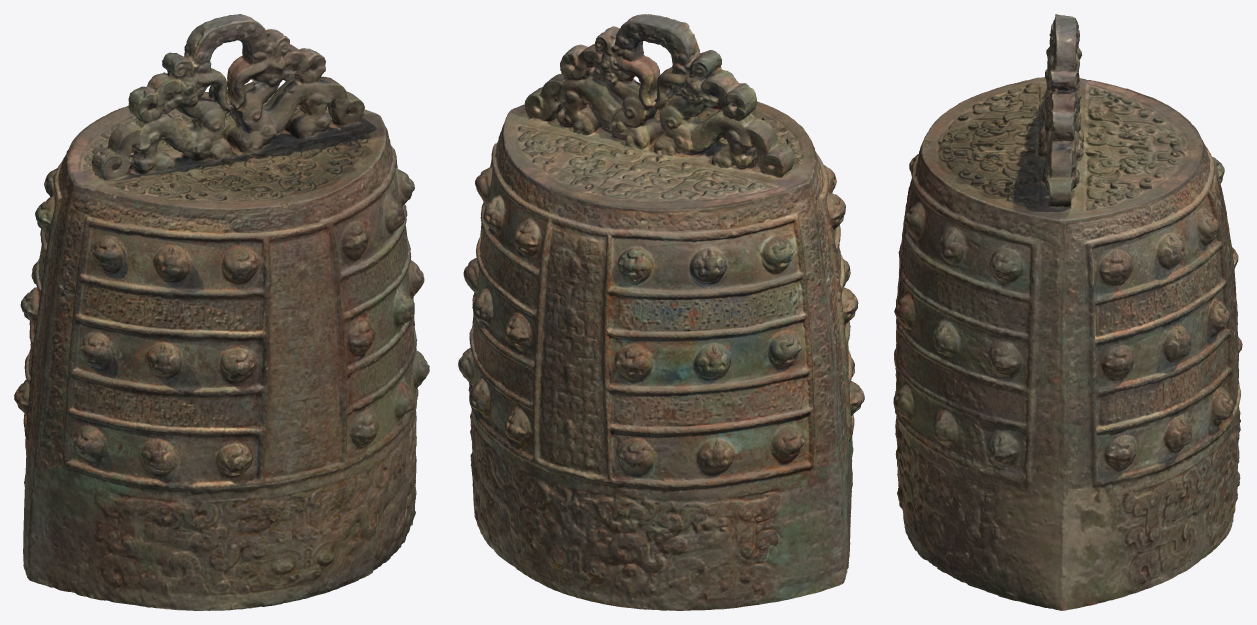
Rendered from bronze-bell.glb.
The picture shows the model from 3 angles, left to right: view 1: azimuth 30°, elevation 25°; view 2: azimuth 150°, elevation 25°; view 3: azimuth 270°, elevation 25°; orthographic projection. The views are drawn at different scales.
Parts seen in each view (by area): view 1: Object_4, Object_5, Object_6, Object_3, Object_7; view 2: Object_3, Object_6, Object_4, Object_5, Object_7; view 3: Object_3, Object_6, Object_7, Object_4, Object_5.
Boxes of the visible parts, x1=… form: Object_4: x1=35, y1=21, x2=414, y2=574; Object_5: x1=14, y1=37, x2=427, y2=604; Object_6: x1=14, y1=14, x2=424, y2=610; Object_3: x1=23, y1=44, x2=416, y2=610; Object_7: x1=315, y1=65, x2=429, y2=467; Object_3: x1=469, y1=21, x2=852, y2=610; Object_6: x1=463, y1=14, x2=864, y2=609; Object_4: x1=471, y1=41, x2=854, y2=493; Object_5: x1=468, y1=44, x2=864, y2=600; Object_7: x1=458, y1=53, x2=568, y2=410; Object_3: x1=893, y1=18, x2=1241, y2=610; Object_6: x1=894, y1=14, x2=1241, y2=609; Object_7: x1=894, y1=113, x2=1189, y2=492; Object_4: x1=893, y1=17, x2=1240, y2=522; Object_5: x1=893, y1=35, x2=1242, y2=596.
Bounding box in the file's own units: 20.91 × 27.46 × 17.36.
Materials: 1 (1 with a texture image).
